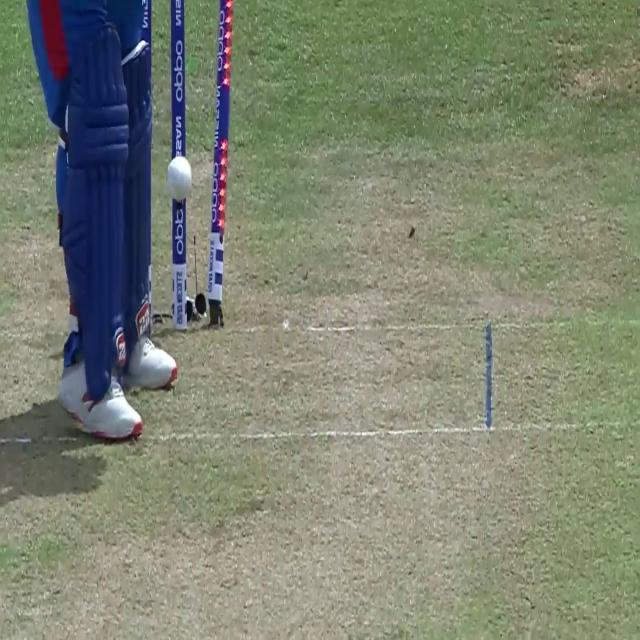ball: (167, 156, 193, 202)
